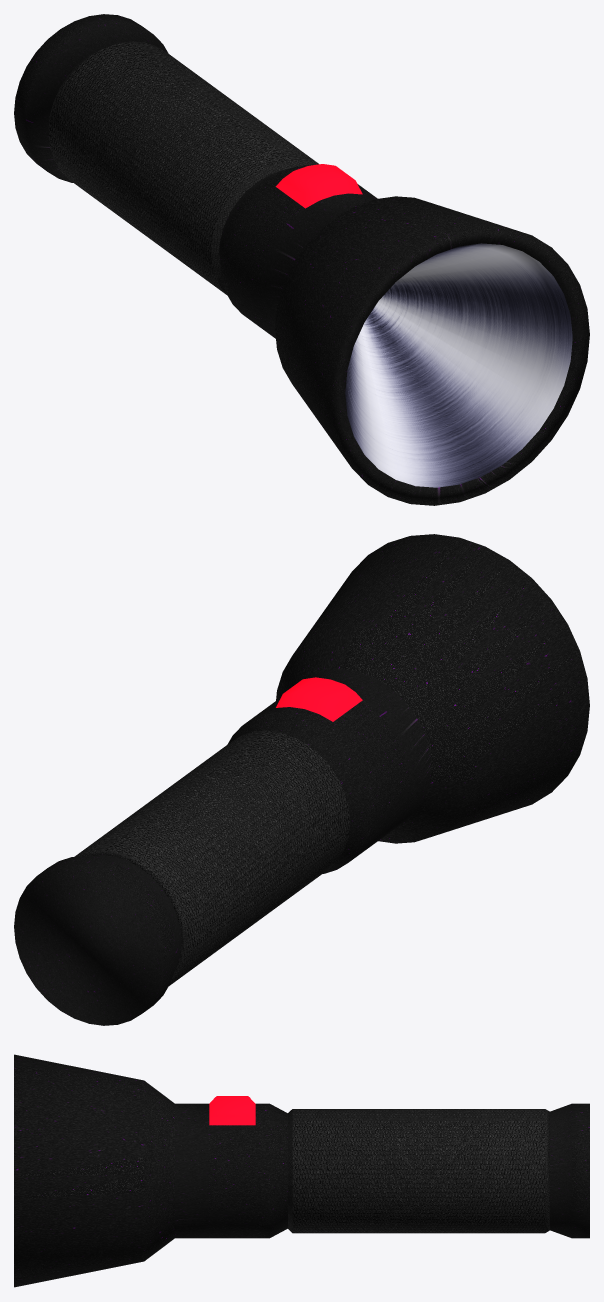
File: flashlight.fbx
3 renders of one model, top to bottom at view 1: azimuth 30°, elevation 25°; view 2: azimuth 150°, elevation 25°; view 3: azimuth 270°, elevation 25°, orthographic. The views are drawn at different scales.
Parts seen in each view (by area): view 1: Flashlight; view 2: Flashlight; view 3: Flashlight.
Boxes of the visible parts, x1,y1,x2,y2 form: Flashlight: [14, 14, 589, 505]; Flashlight: [14, 534, 589, 1025]; Flashlight: [14, 1054, 589, 1287].
Bounding box in the file's own units: 346 × 346 × 855.
Materials: 4 (3 with a texture image).
